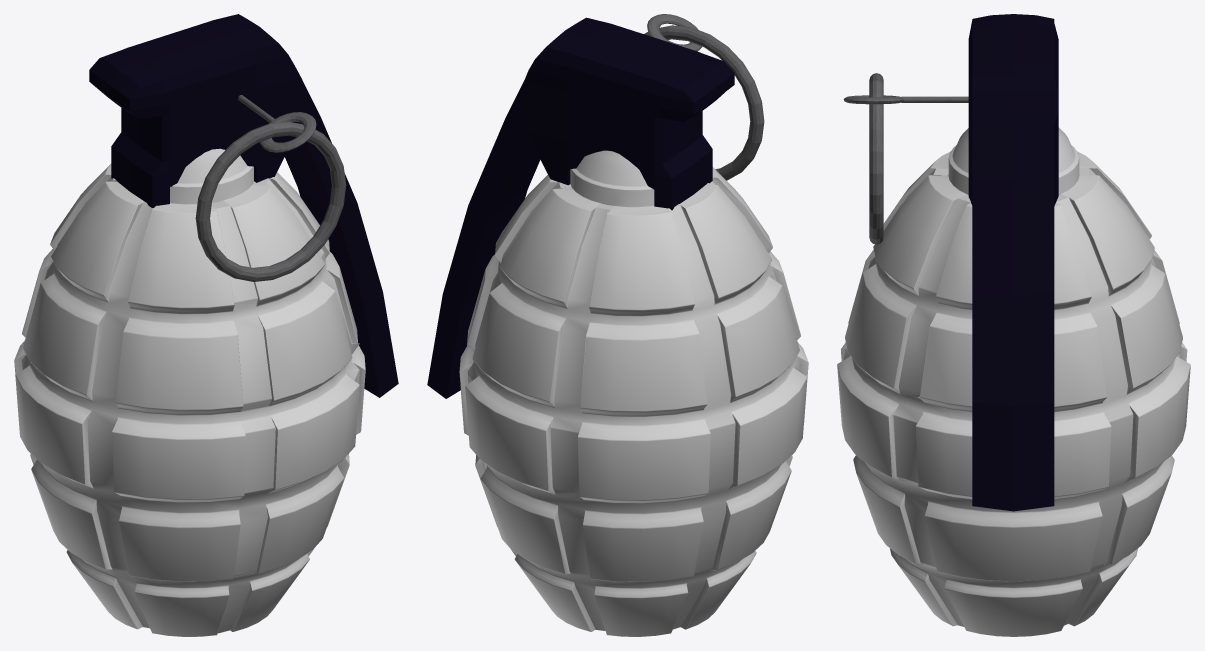
Rendered from Granada_Final.fbx.
The picture shows the model from 3 angles, left to right: view 1: azimuth 30°, elevation 25°; view 2: azimuth 150°, elevation 25°; view 3: azimuth 270°, elevation 25°; orthographic projection.
Visible parts, largest first — view 1: GranadaBase, GranadaSuporte, GranadaPino; view 2: GranadaBase, GranadaSuporte, GranadaPino; view 3: GranadaBase, GranadaSuporte, GranadaPino.
Part boxes in pixels (x1,y1,x2,y2): GranadaBase: [14, 148, 365, 636]; GranadaSuporte: [89, 14, 398, 397]; GranadaPino: [195, 95, 346, 281]; GranadaBase: [459, 150, 808, 636]; GranadaSuporte: [427, 17, 734, 398]; GranadaPino: [644, 14, 764, 180]; GranadaBase: [837, 127, 1190, 636]; GranadaSuporte: [968, 14, 1058, 511]; GranadaPino: [843, 73, 968, 244].
Bounding box in the file's own units: 13.51 × 21.14 × 12.02.
